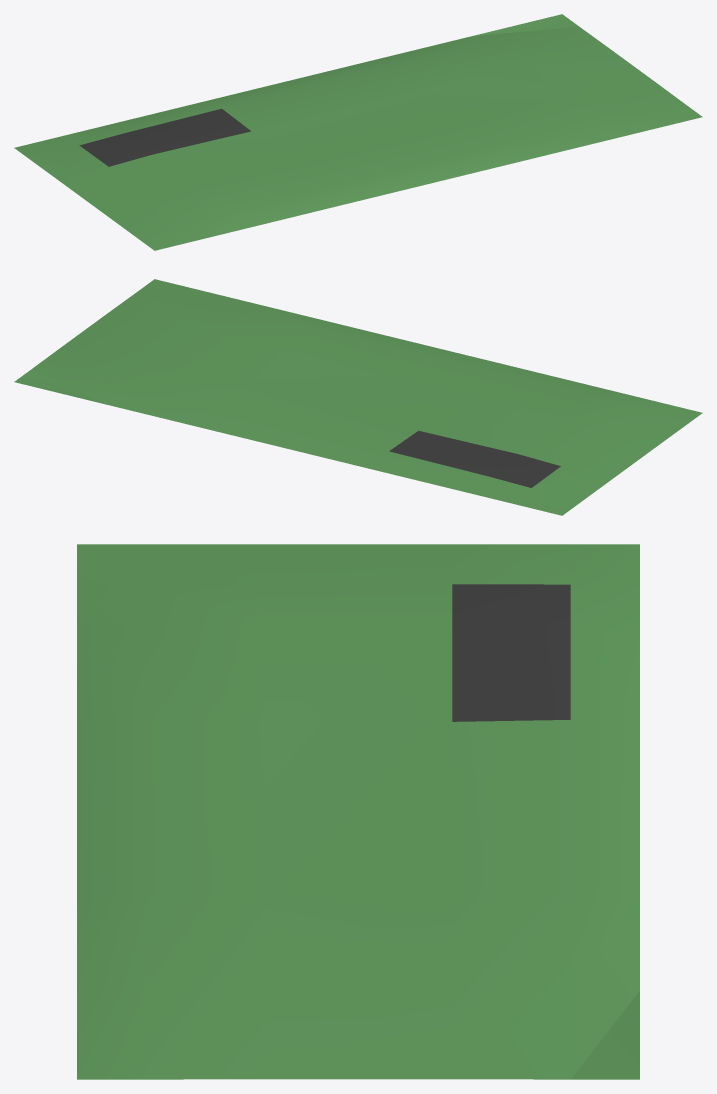
File: Skinny_Envelope.fbx
3 views of the same model, one above another, from view 1: azimuth 30°, elevation 25°; view 2: azimuth 150°, elevation 25°; view 3: azimuth 270°, elevation 25° (orthographic). The views are drawn at different scales.
Visible parts, largest first — view 1: Skinny_Envelope; view 2: Skinny_Envelope; view 3: Skinny_Envelope.
Part boxes in pixels (left/top/right/bottom): Skinny_Envelope: left=14, top=14, right=702, bottom=250; Skinny_Envelope: left=14, top=279, right=702, bottom=515; Skinny_Envelope: left=77, top=544, right=639, bottom=1079.
Size of the model in its own units: 0.9 by 0.0178 by 0.4.
